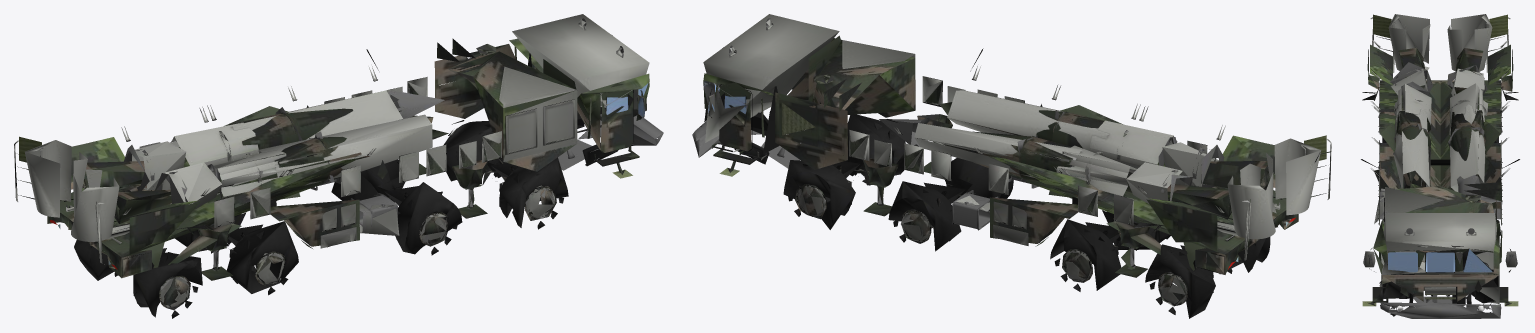
Rendered from iskander.glb.
The picture shows the model from 3 angles, left to right: view 1: azimuth 30°, elevation 25°; view 2: azimuth 150°, elevation 25°; view 3: azimuth 270°, elevation 25°; orthographic projection. The views are drawn at different scales.
Parts seen in each view (by area): view 1: g_iskander_hull, g_iskander_gun; view 2: g_iskander_hull, g_iskander_gun; view 3: g_iskander_hull, g_iskander_gun.
Part boxes in pixels (x1,y1,x2,y2): g_iskander_hull: (14,14,663,318); g_iskander_gun: (64,90,448,254); g_iskander_hull: (692,14,1331,318); g_iskander_gun: (879,90,1282,251); g_iskander_hull: (1361,14,1519,318); g_iskander_gun: (1362,44,1518,194).
Size of the model in its own units: 12.93 by 3.29 by 3.82.
Materials: 2 (2 with a texture image).
